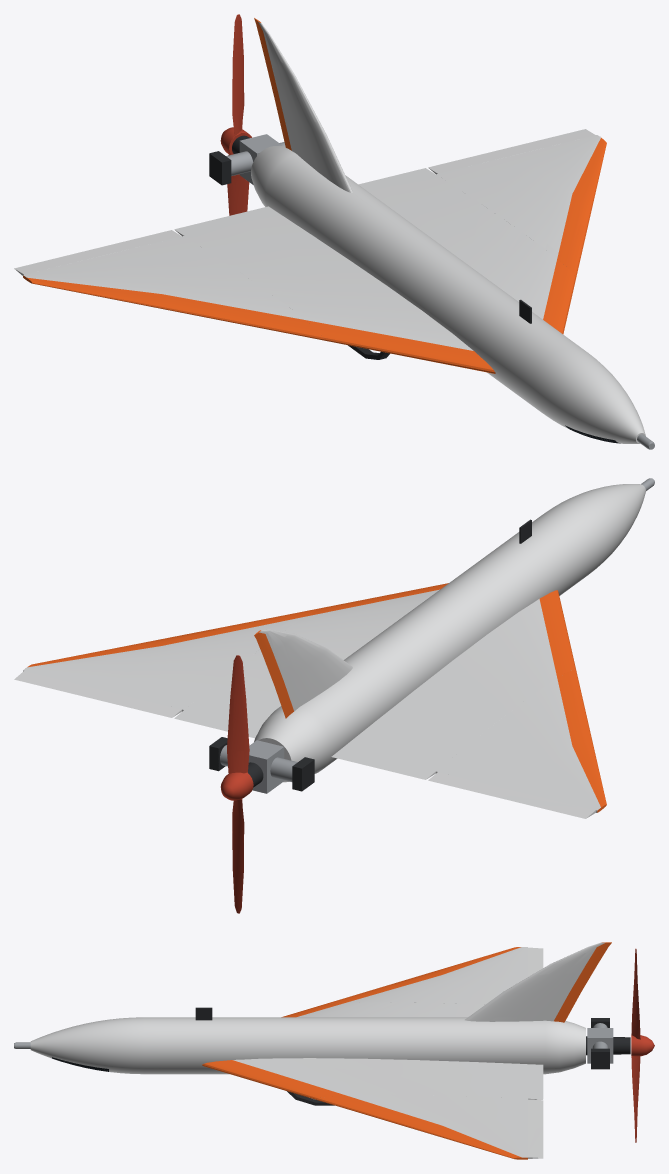
File: uav.glb
3 renders of one model, top to bottom at view 1: azimuth 30°, elevation 25°; view 2: azimuth 150°, elevation 25°; view 3: azimuth 270°, elevation 25°, orthographic. The views are drawn at different scales.
Parts seen in each view (by area): view 1: airframe (×2), rotor_01 (×2), elevon_L, elevon_R; view 2: airframe (×2), rotor_01 (×2), elevon_R (×2), elevon_L (×2); view 3: airframe (×2), rotor_01 (×2), elevon_L (×2).
Part boxes in pixels (bbox=[...]): airframe (×2): bbox=[23, 18, 654, 449]; rotor_01 (×2): bbox=[220, 14, 251, 215]; elevon_L: bbox=[428, 129, 595, 174]; elevon_R: bbox=[14, 230, 181, 275]; airframe (×2): bbox=[23, 478, 654, 812]; rotor_01 (×2): bbox=[220, 655, 253, 913]; elevon_R (×2): bbox=[428, 772, 595, 818]; elevon_L (×2): bbox=[14, 671, 181, 717]; airframe (×2): bbox=[14, 942, 630, 1159]; rotor_01 (×2): bbox=[631, 948, 654, 1142]; elevon_L (×2): bbox=[528, 1099, 543, 1158].
Size of the model in its own units: 2.1 by 0.9301 by 2.7.
